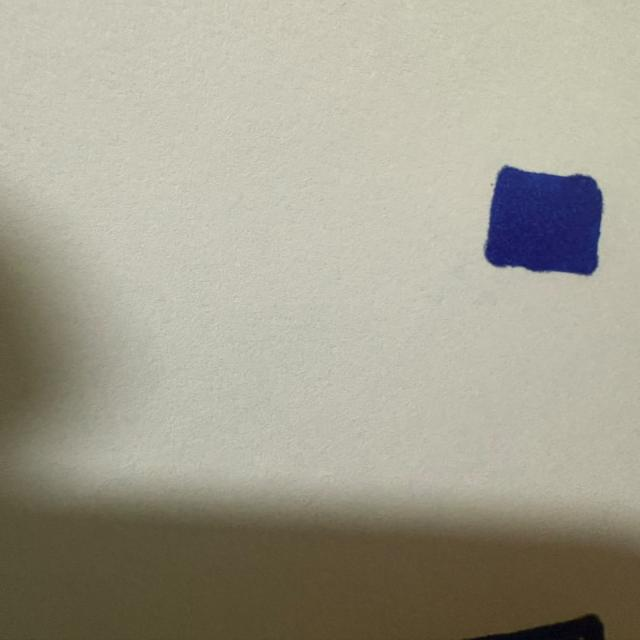Square: (483, 166, 607, 278)
